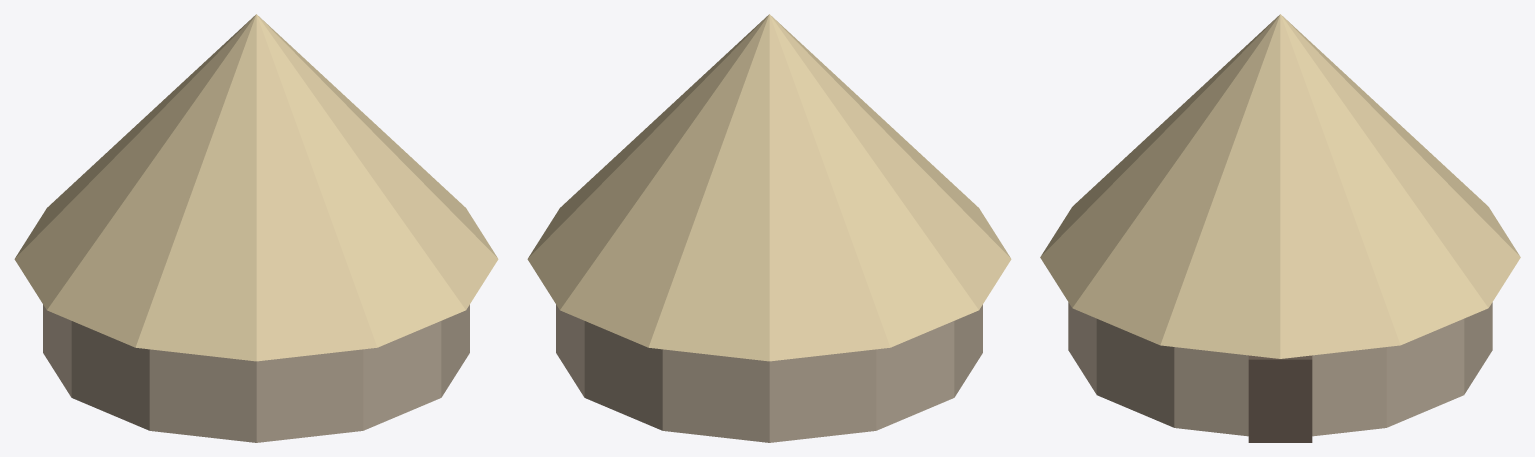
Rendered from capanna_tonda.glb.
3 views of the same model, side by side, from view 1: azimuth 30°, elevation 25°; view 2: azimuth 150°, elevation 25°; view 3: azimuth 270°, elevation 25° (orthographic).
Visible parts, largest first — view 1: capanna_tonda; view 2: capanna_tonda; view 3: capanna_tonda.
Boxes of the visible parts, box(x1,y1,x2,y2) form: capanna_tonda: box(14, 14, 498, 442); capanna_tonda: box(527, 14, 1011, 442); capanna_tonda: box(1040, 14, 1520, 442).
Bounding box in the file's own units: 6.8 × 5.25 × 6.8.
